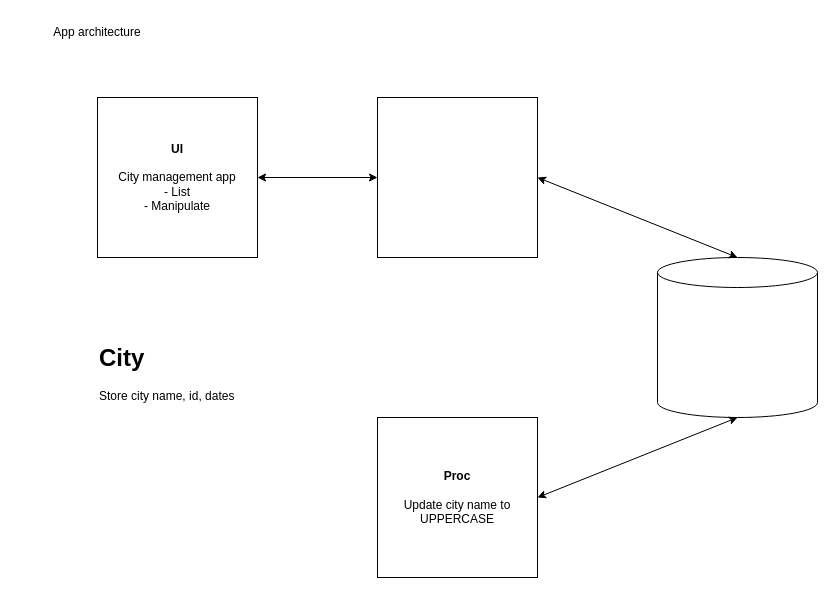
The diagram is 835 pixels wide and 595 high, and some of its shapes have lost their labels. The centre of each missing label's shape, as x and y in pixels:
API - Create City - Get City by id - List Cities - Update City - Delete City: the point at 457,177
Database City collection - id - name - created date -updated date: the point at 737,337
